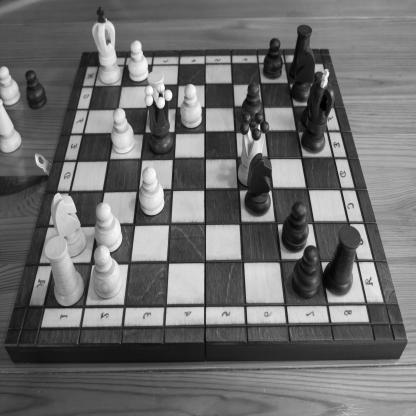black-bishop: (300, 71, 325, 128)
black-king: (301, 67, 335, 154)
black-knight: (244, 152, 273, 217), (291, 45, 315, 104)
black-pawn: (292, 244, 322, 300), (281, 200, 309, 254), (241, 82, 264, 128), (24, 69, 48, 111), (264, 37, 284, 80)
black-queen: (144, 82, 174, 155)
black-rook: (322, 225, 361, 296), (288, 24, 312, 79)
white-bishop: (0, 99, 23, 154)
white-king: (92, 6, 121, 85)
white-knight: (50, 192, 88, 258)
white-pawn: (92, 244, 122, 300), (94, 202, 123, 254), (139, 166, 165, 218), (111, 107, 135, 154), (180, 84, 202, 129), (128, 39, 149, 83), (1, 66, 21, 107)
white-queen: (238, 112, 270, 188)
white-rook: (44, 235, 85, 308), (147, 70, 171, 124)
